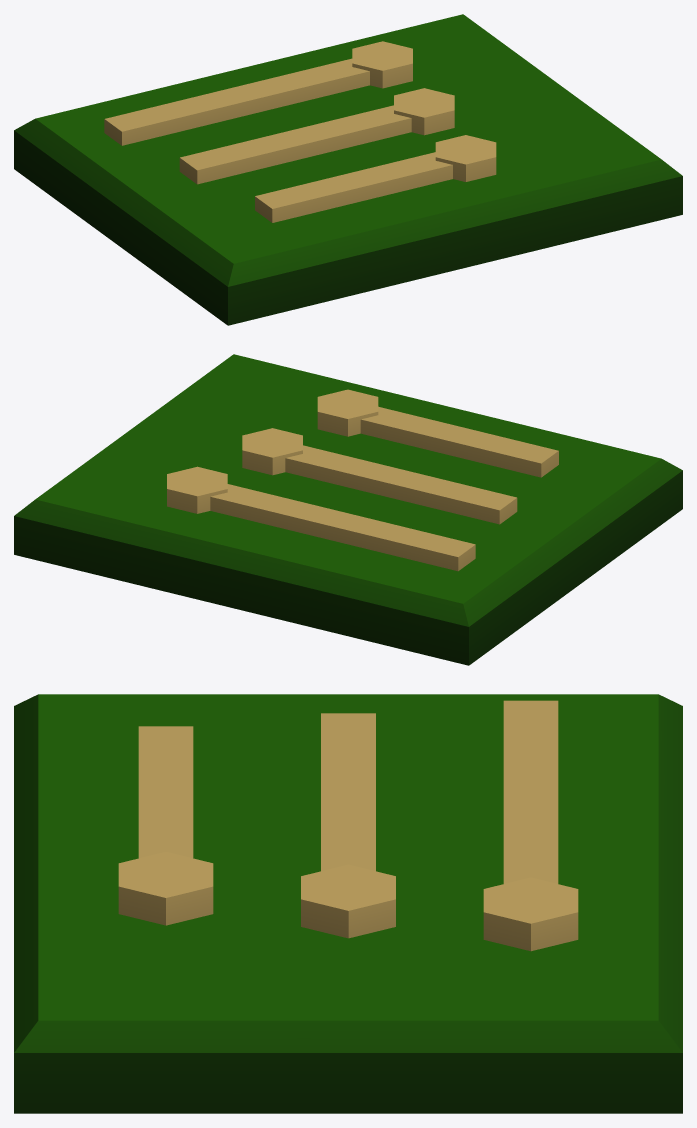
The model's file is electronic-circuit.glb.
3 renders of one model, top to bottom at view 1: azimuth 30°, elevation 25°; view 2: azimuth 150°, elevation 25°; view 3: azimuth 270°, elevation 25°, orthographic. The views are drawn at different scales.
Visible parts, largest first — view 1: electronic-circuit; view 2: electronic-circuit; view 3: electronic-circuit.
Part boxes in pixels (<box>): electronic-circuit: <box>14,14,682,325</box>; electronic-circuit: <box>14,354,682,665</box>; electronic-circuit: <box>14,694,682,1113</box>.
Bounding box in the file's own units: 0.27 × 0.04 × 0.22.
